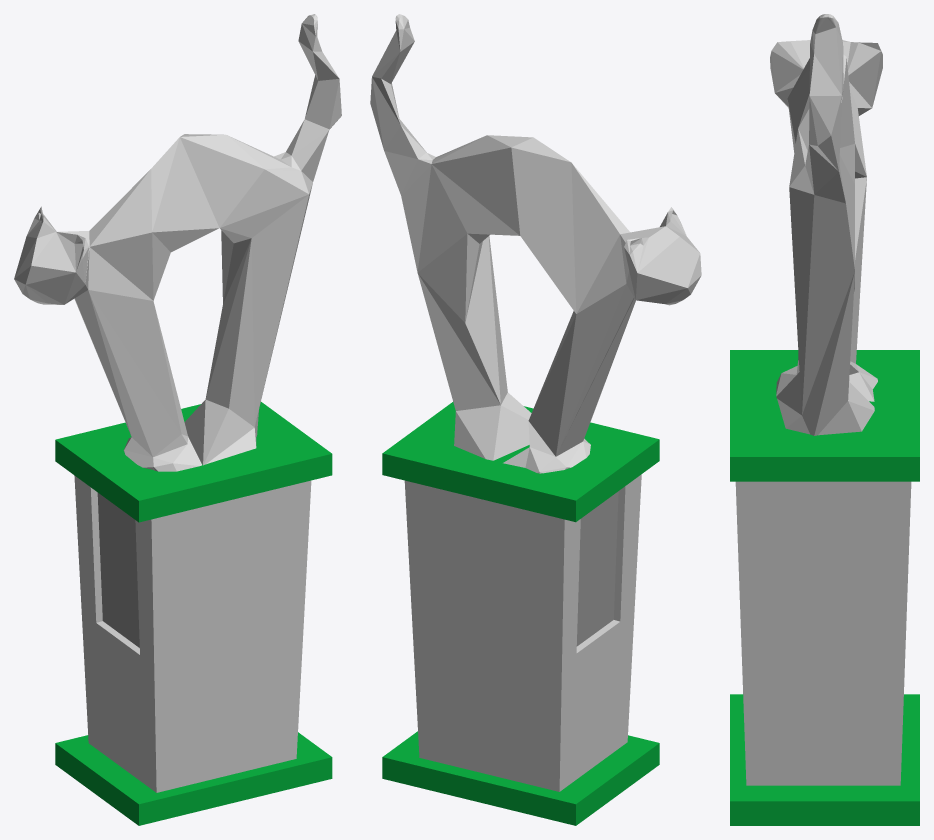
Rendered from silverCatgreen.FBX.
The picture shows the model from 3 angles, left to right: view 1: azimuth 30°, elevation 25°; view 2: azimuth 150°, elevation 25°; view 3: azimuth 270°, elevation 25°; orthographic projection. The views are drawn at different scales.
Visible parts, largest first — view 1: cat007; view 2: cat007; view 3: cat007.
Boxes of the visible parts, <box> form: cat007: <box>14,14,341,825</box>; cat007: <box>370,14,701,825</box>; cat007: <box>730,14,919,825</box>.
Bounding box in the file's own units: 10.44 × 22.51 × 4.69.
